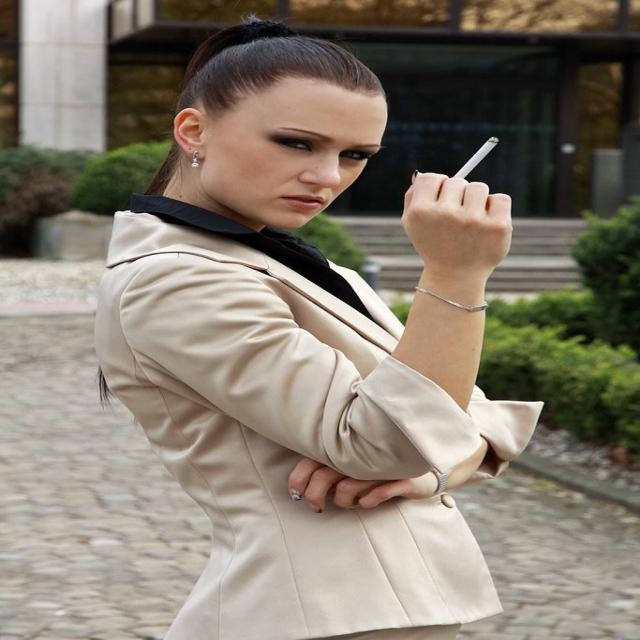Сигарета: (452, 135, 499, 180)
Тело: (94, 35, 516, 640)
